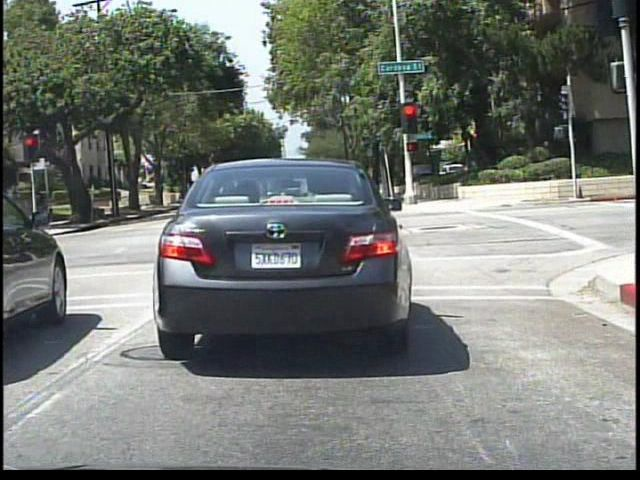person: (30, 184, 51, 231)
